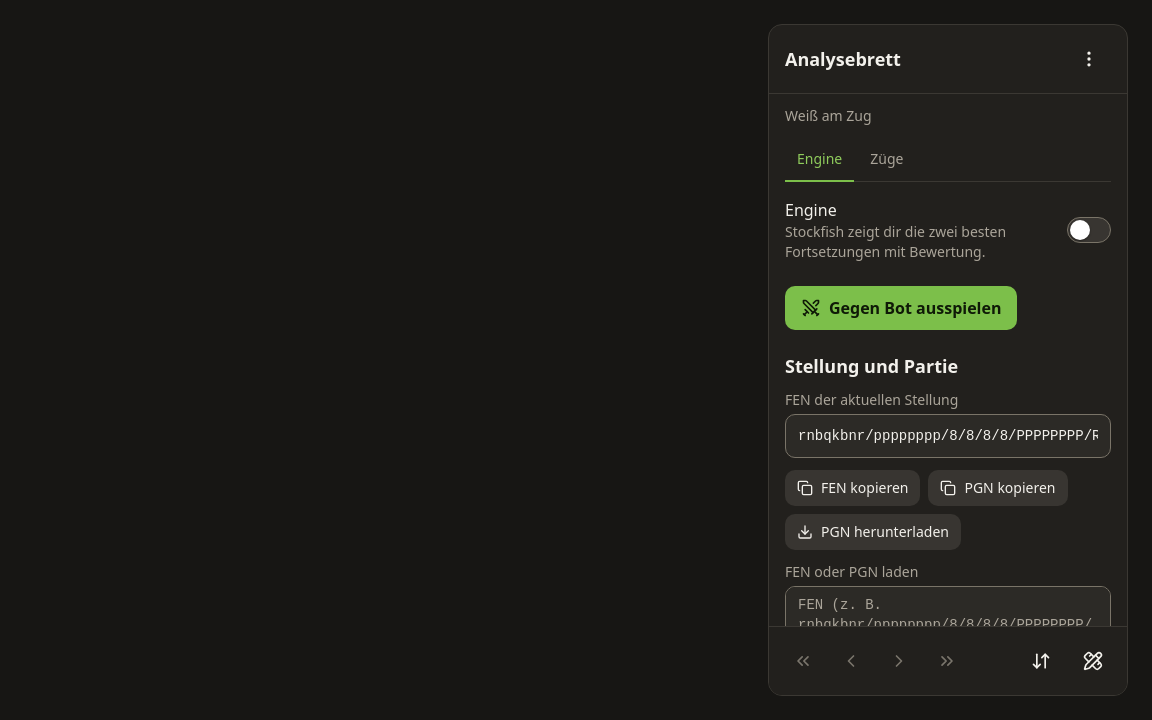
Analysebrett › shows the engine error card when the engine cannot start
Step 1. Click the switch named "Engine" → (1089, 230), box [1067,208,1111,252]
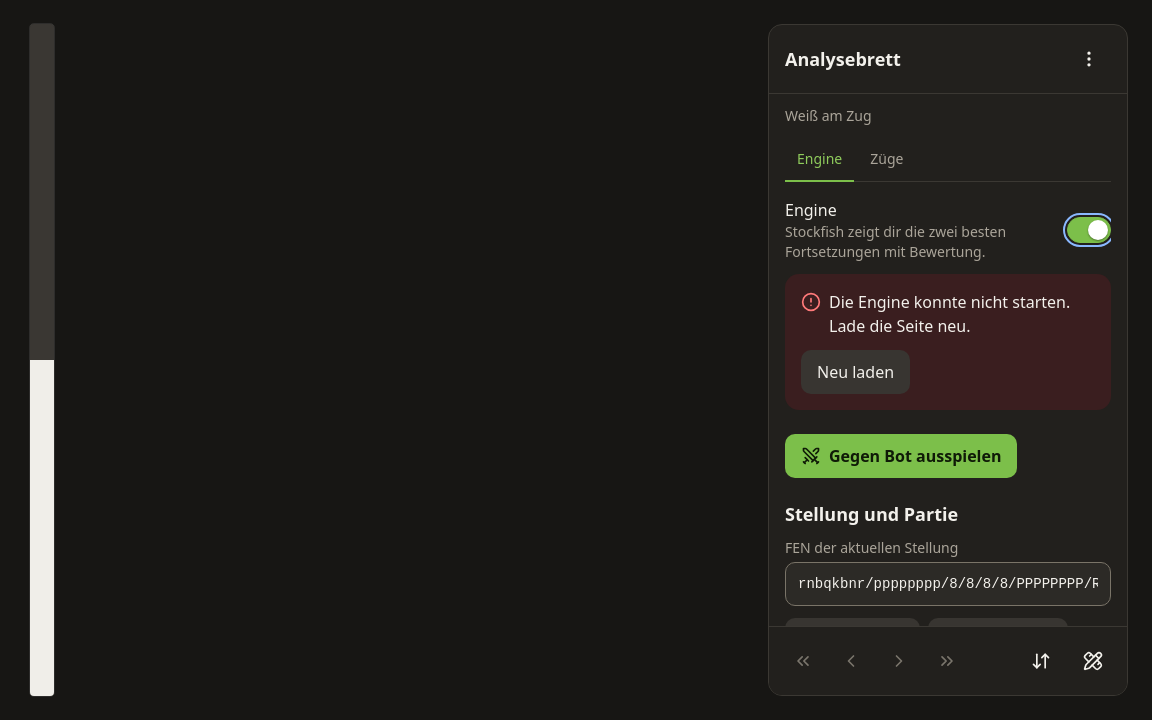
Result: the text "Die Engine konnte nicht starten. Lade die Seite neu." is shown at [829,290,1095,338]
Result: the button "Neu laden" is shown at [801,350,910,394]
